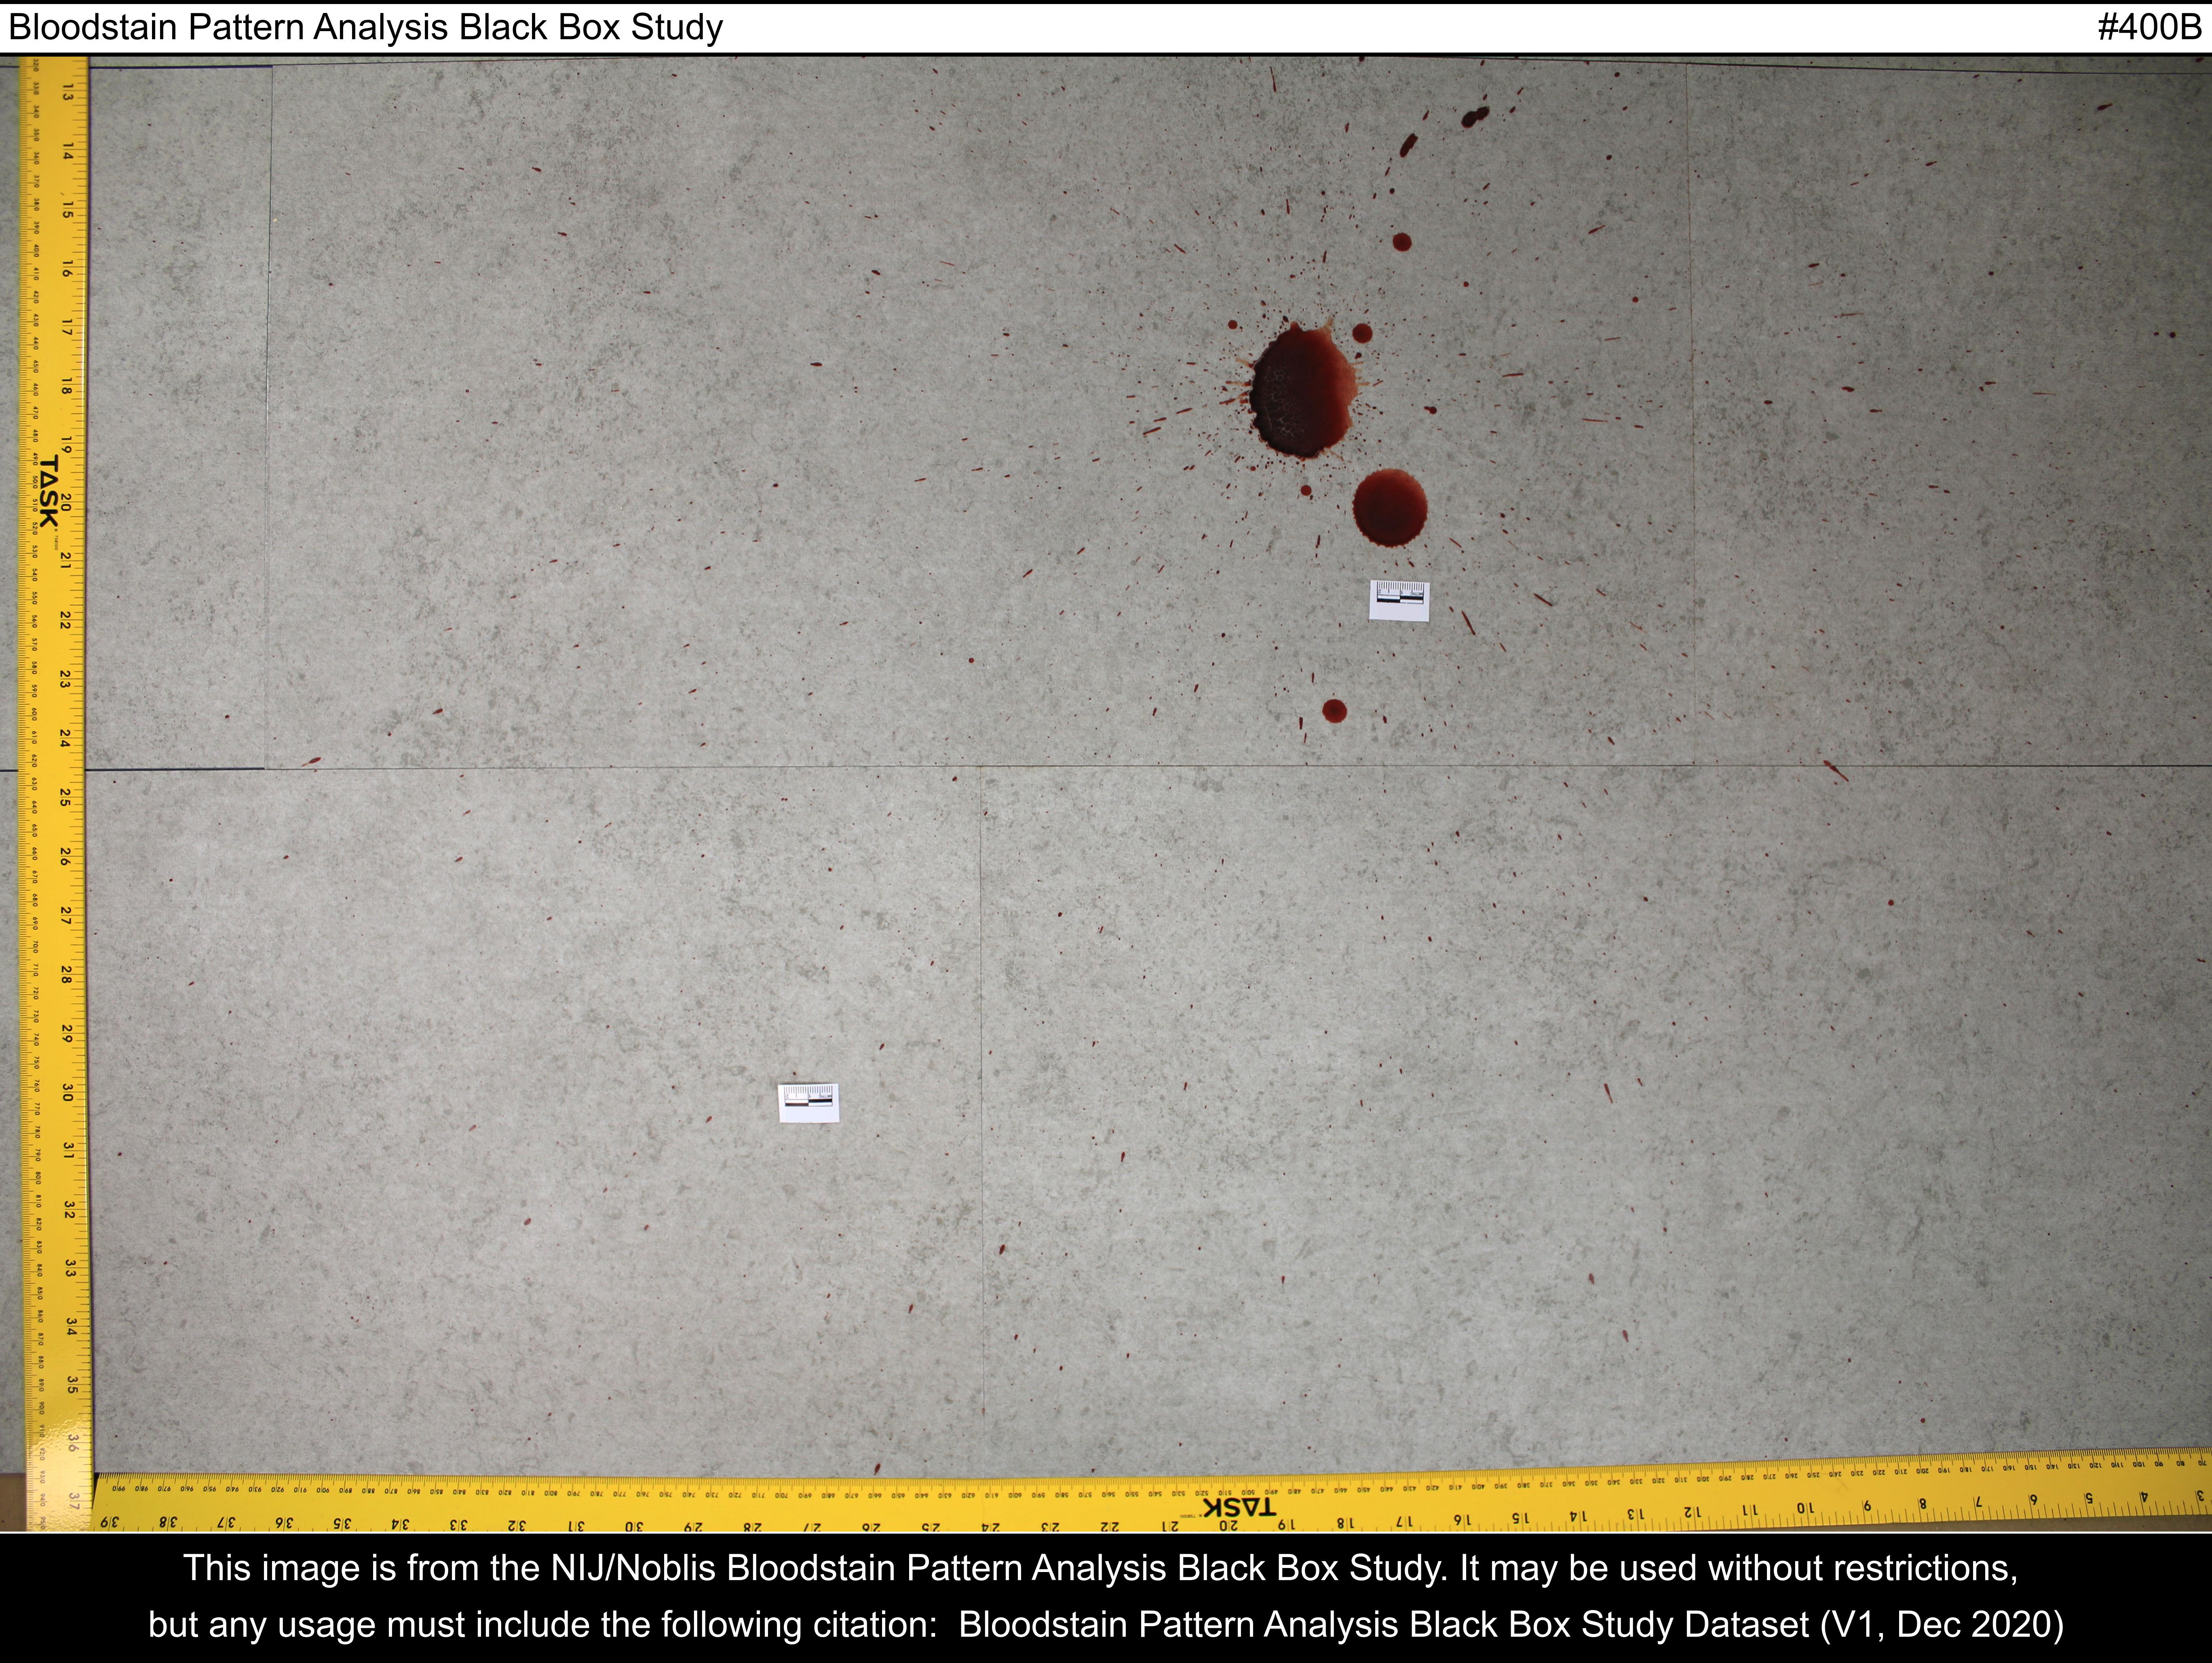Passive: (1089, 65, 1669, 568), (1311, 681, 1369, 737)
